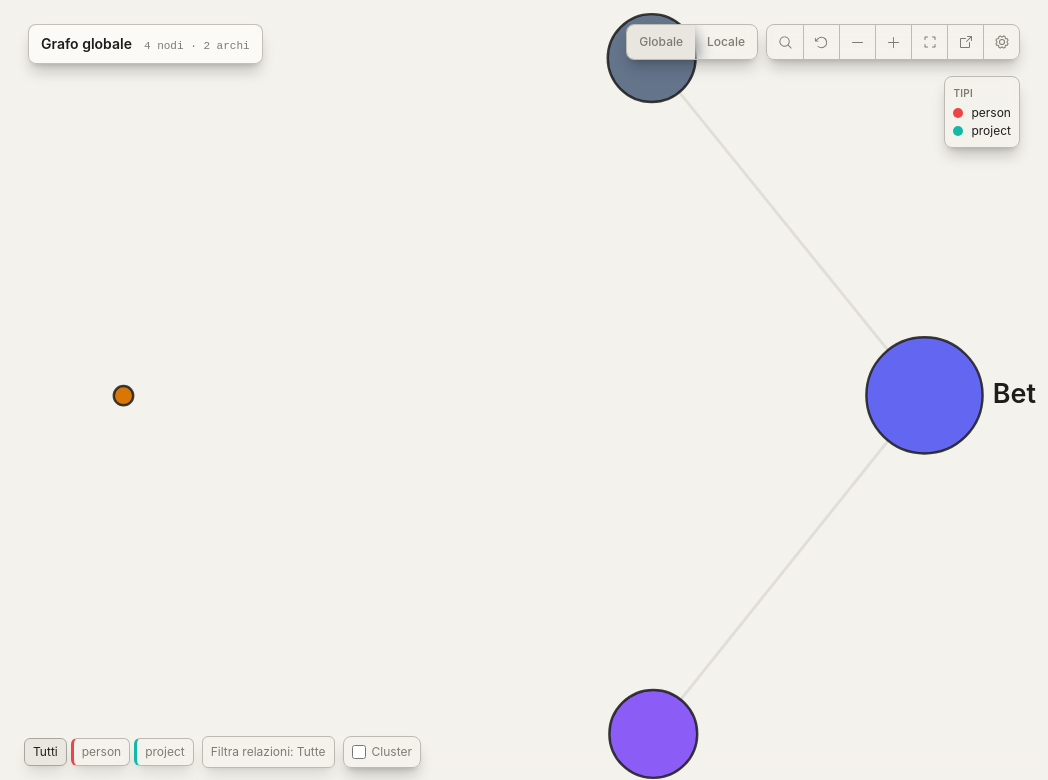
Test: <GlobalGraph> › switches from global to local mode using the current note as root
Expected: the heading "Grafo globale" is shown, [41, 33, 132, 54]
Expected: the text "4 nodi · 2 archi" is shown, [144, 38, 250, 54]
Click the tab "Locale" at (726, 42), box [695, 25, 757, 59]
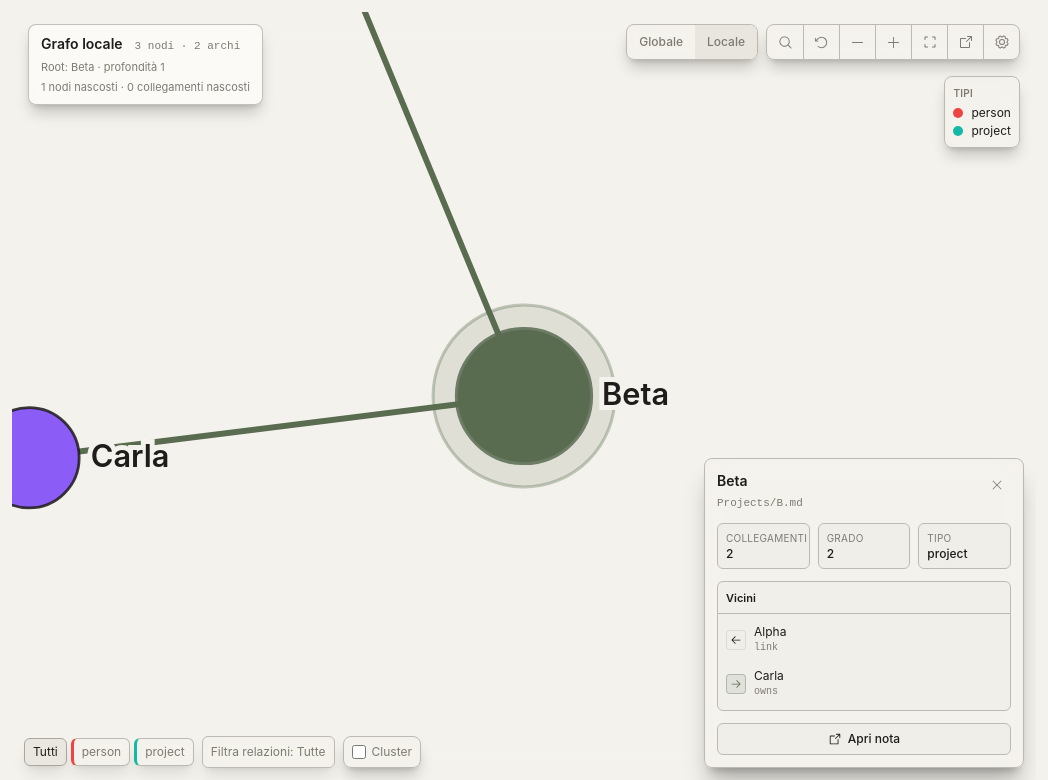
Result: the heading "Grafo locale" is shown at [41, 33, 123, 54]
Result: the text "Root: Beta · profondità 1" is shown at [41, 60, 165, 74]
Result: the text "3 nodi · 2 archi" is shown at [135, 38, 240, 54]
